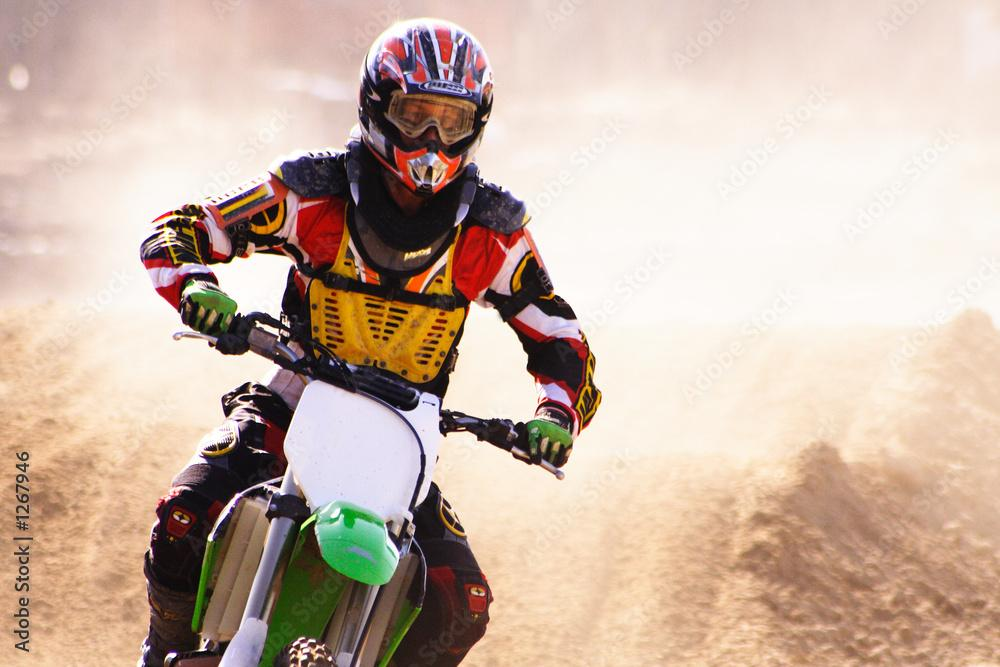helmet: (356, 16, 495, 200)
